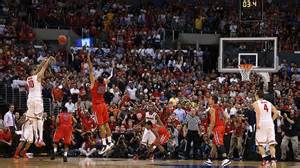basketball: (57, 34, 66, 44)
